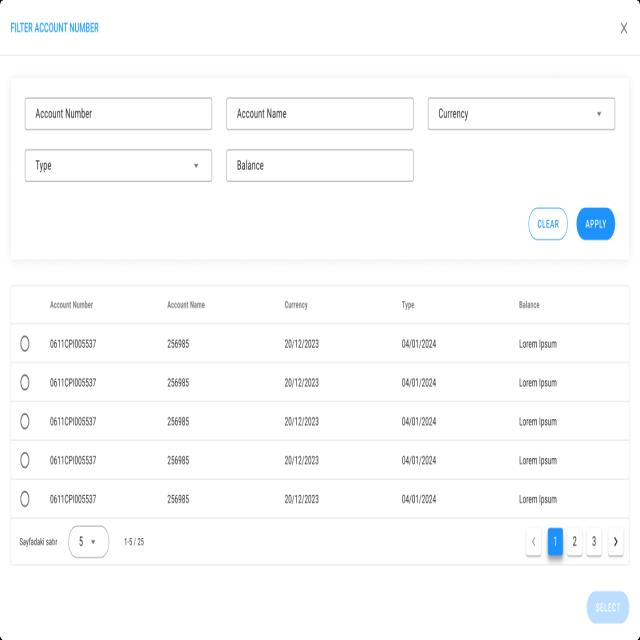QLabel: (6, 15, 102, 40), (594, 598, 622, 616), (535, 216, 560, 231), (584, 217, 608, 230)
VAppBar: (0, 0, 640, 57)
VBtn: (586, 589, 631, 623), (576, 206, 616, 241), (528, 206, 567, 241)
VCard: (9, 77, 630, 262)
VCombobox: (24, 149, 212, 183)
VDataTable: (10, 286, 630, 568)
VIcon: (613, 15, 631, 43)
VTextField: (25, 96, 212, 132), (226, 96, 414, 130), (226, 148, 414, 182)
